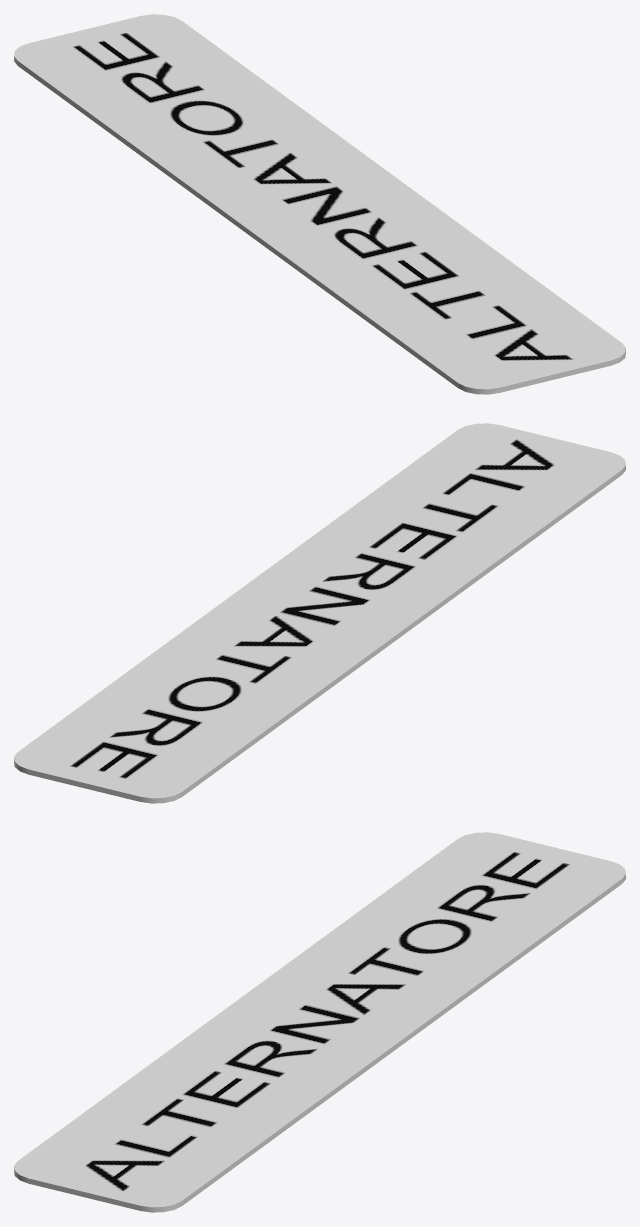
The model's file is alternatore.fbx.
3 views of the same model, one above another, from view 1: azimuth 30°, elevation 25°; view 2: azimuth 150°, elevation 25°; view 3: azimuth 330°, elevation 25° (orthographic).
Visible parts, largest first — view 1: pCube1; view 2: pCube1; view 3: pCube1.
Boxes of the visible parts, x1=… form: pCube1: x1=14, y1=14, x2=625, y2=394; pCube1: x1=14, y1=423, x2=625, y2=803; pCube1: x1=14, y1=832, x2=625, y2=1212.
Size of the model in its own units: 16.34 by 0.5 by 81.2.
Materials: 1 (1 with a texture image).
